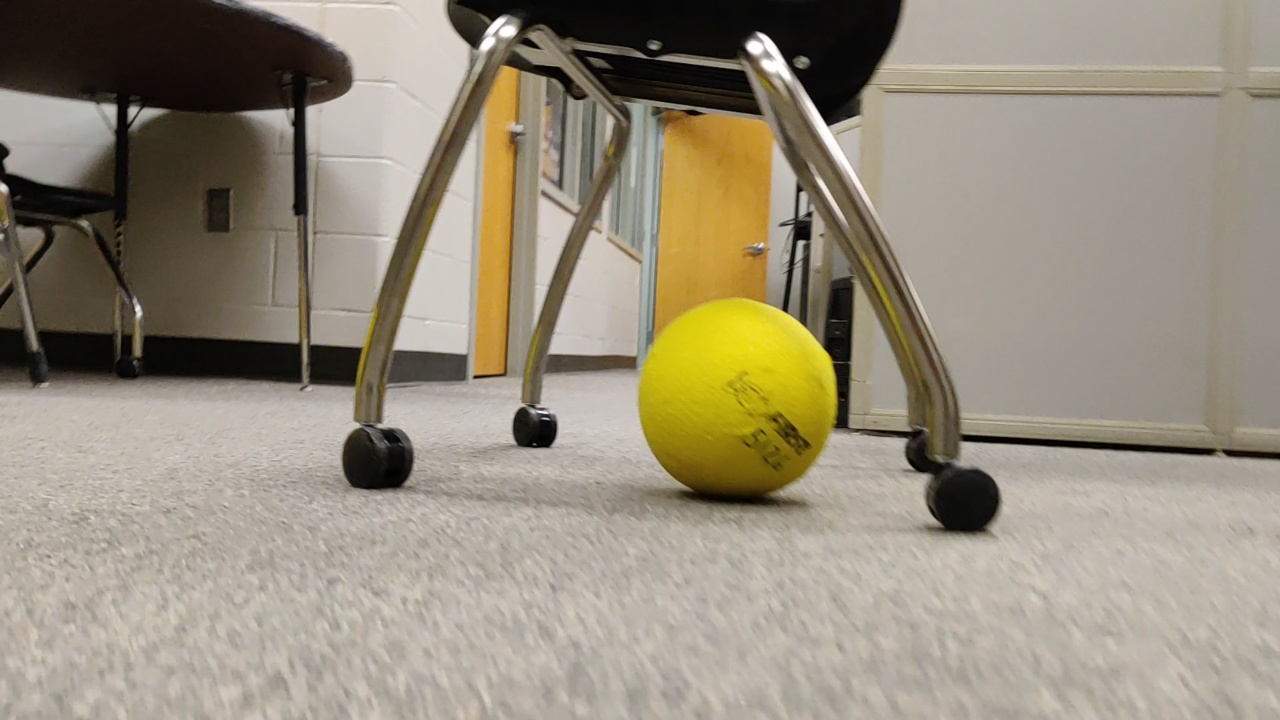Ball: (639, 297, 839, 501)
